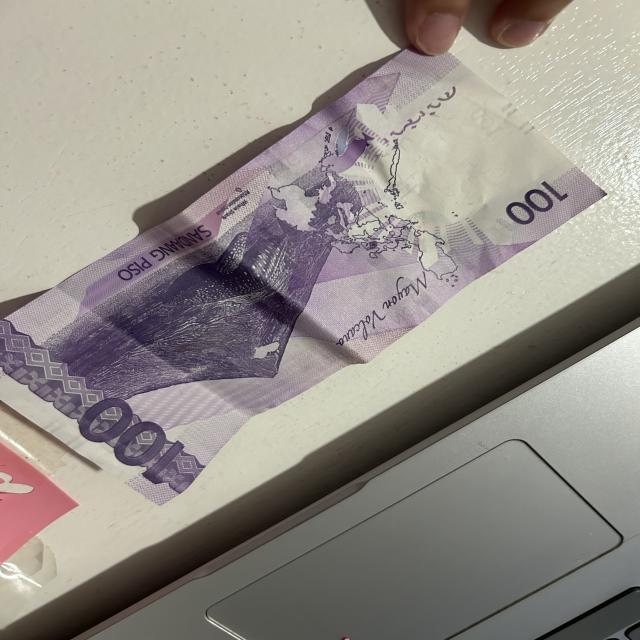100_whale: (161, 226, 301, 307)
100_whale_watermark: (318, 134, 372, 176)
value_watermark: (469, 106, 505, 138)
